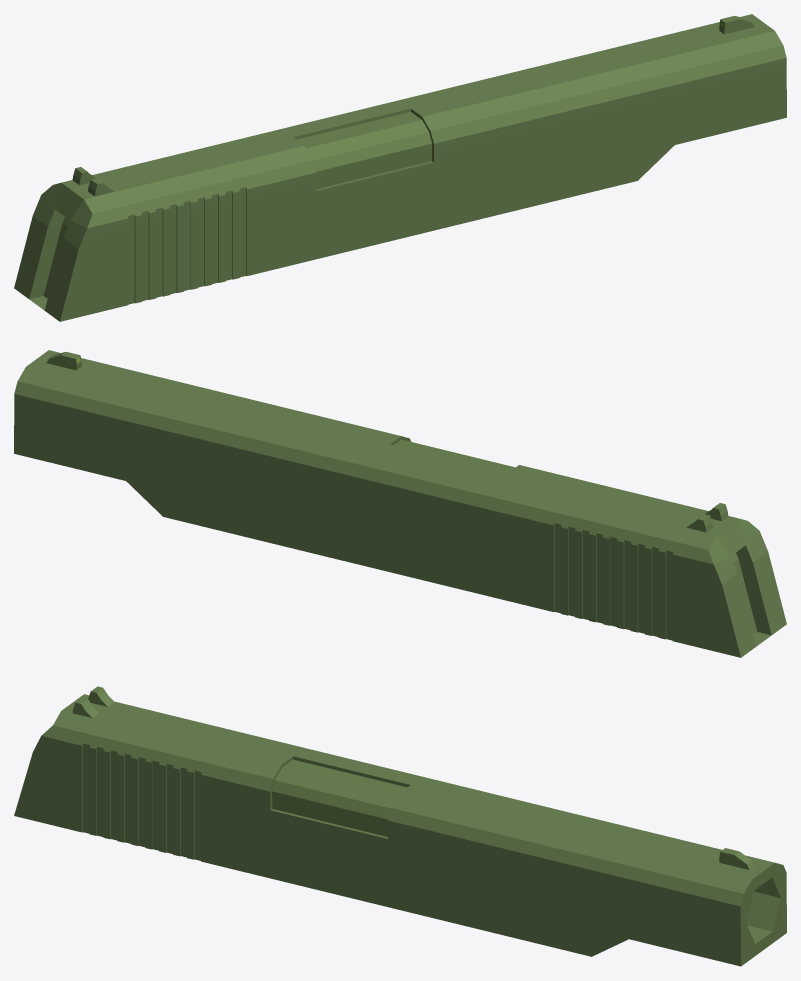
The model's file is Pistol2_01_2.fbx.
3 renders of one model, top to bottom at view 1: azimuth 30°, elevation 25°; view 2: azimuth 150°, elevation 25°; view 3: azimuth 330°, elevation 25°, orthographic.
Parts seen in each view (by area): view 1: Pistol2_01_2; view 2: Pistol2_01_2; view 3: Pistol2_01_2.
Boxes of the visible parts, bbox=[...] form: Pistol2_01_2: bbox=[14, 14, 786, 321]; Pistol2_01_2: bbox=[14, 350, 786, 657]; Pistol2_01_2: bbox=[14, 686, 786, 966].
Size of the model in its own units: 0.225 by 0.0345 by 0.0246.
